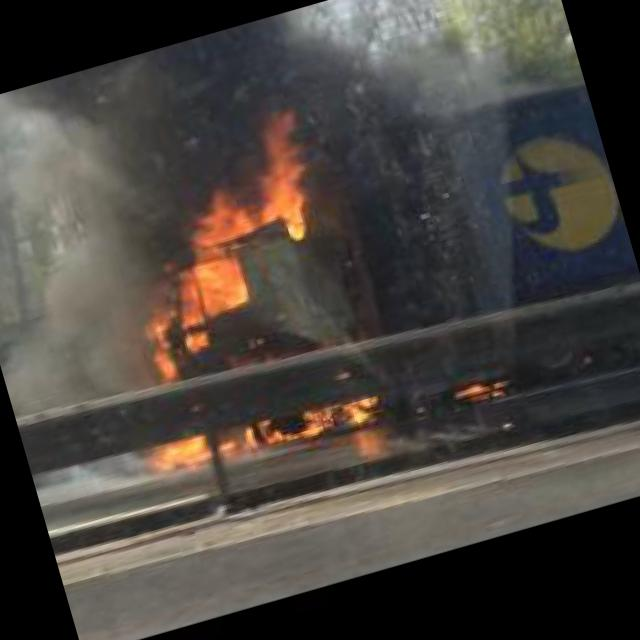fire: (98, 102, 364, 382)
smoke: (0, 0, 426, 272)
